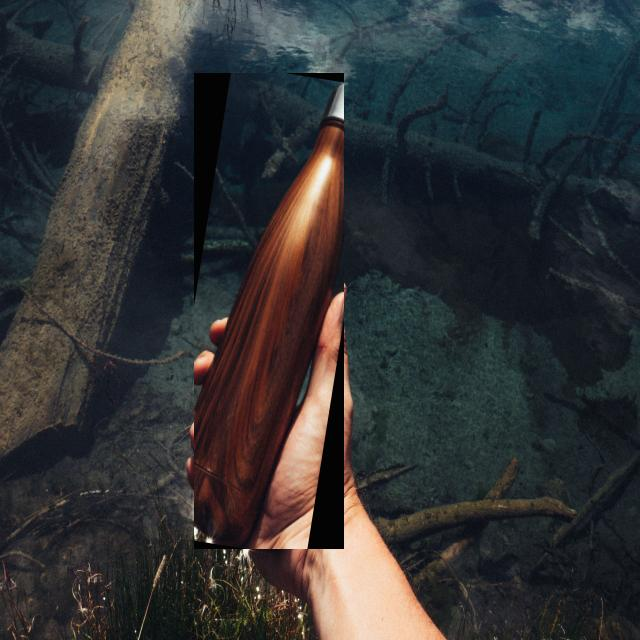Bottle: (194, 74, 342, 549)
